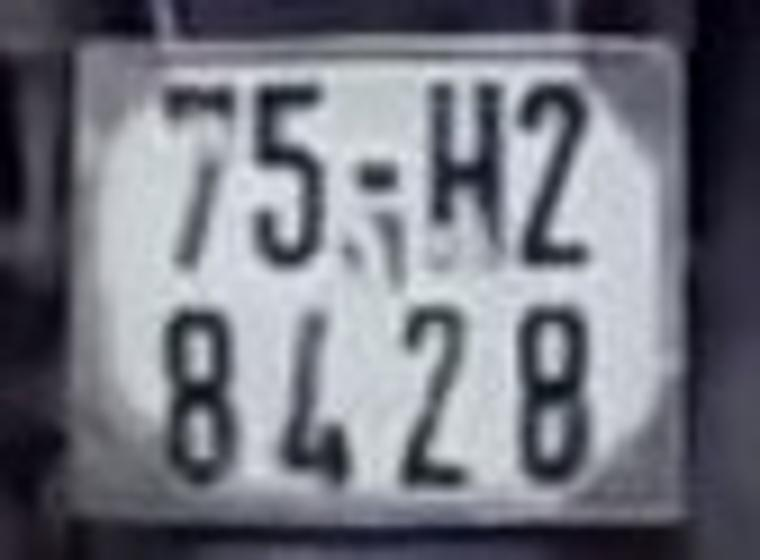-: (349, 159, 410, 203)
2: (516, 76, 609, 276), (397, 302, 483, 493)
4: (276, 310, 364, 499)
5: (250, 75, 339, 275)
7: (158, 77, 232, 272)
8: (153, 307, 252, 494), (514, 299, 595, 488)
H: (424, 75, 518, 274)
